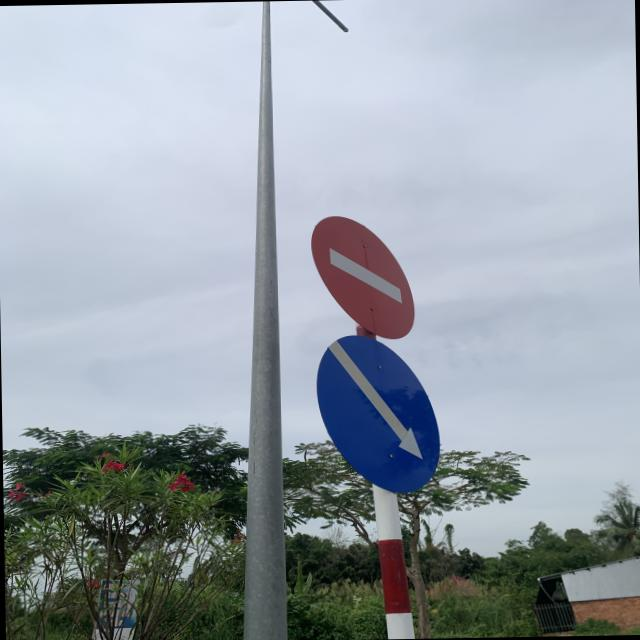Cam_Di_Nguoc_Chieu: (310, 212, 420, 341)
Chi_Huong_Di_Phai: (317, 334, 443, 494)
